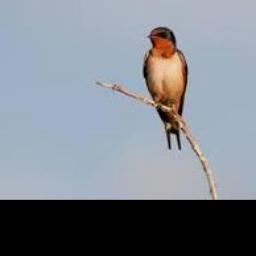Swallow: (144, 27, 187, 149)
